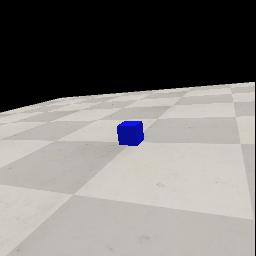box: (117, 121, 144, 146)
